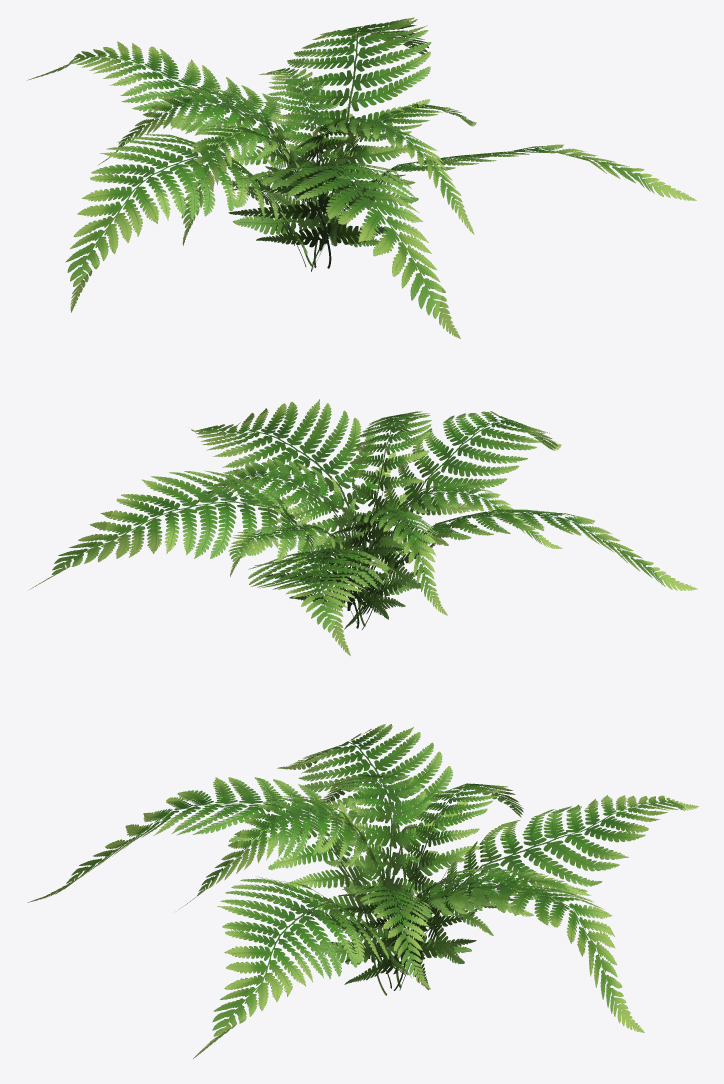
The picture shows the model from 3 angles, top to bottom: view 1: azimuth 30°, elevation 25°; view 2: azimuth 150°, elevation 25°; view 3: azimuth 270°, elevation 25°; orthographic projection. The views are drawn at different scales.
Visible parts, largest first — view 1: StaticMeshActor_221_StaticMeshComponent0; view 2: StaticMeshActor_221_StaticMeshComponent0; view 3: StaticMeshActor_221_StaticMeshComponent0.
Part boxes in pixels (<box>): StaticMeshActor_221_StaticMeshComponent0: <box>27,17,696,338</box>; StaticMeshActor_221_StaticMeshComponent0: <box>29,399,697,655</box>; StaticMeshActor_221_StaticMeshComponent0: <box>27,724,698,1058</box>.
Size of the model in its own units: 5.37 by 1.75 by 5.28.
Materials: 1 (1 with a texture image).
